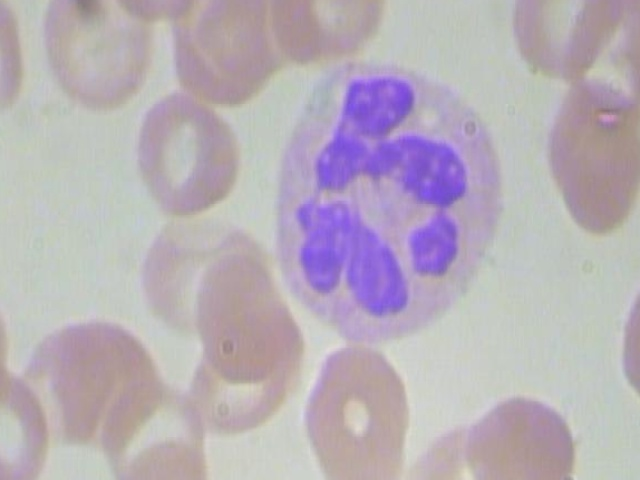RBC: (537, 76, 640, 246), (293, 337, 413, 480), (129, 85, 250, 220), (32, 0, 159, 118), (190, 244, 295, 379), (468, 391, 584, 480), (499, 0, 622, 80), (424, 408, 540, 480), (271, 0, 392, 63), (613, 262, 640, 408), (101, 0, 222, 27)
WBC: (263, 61, 513, 347)
